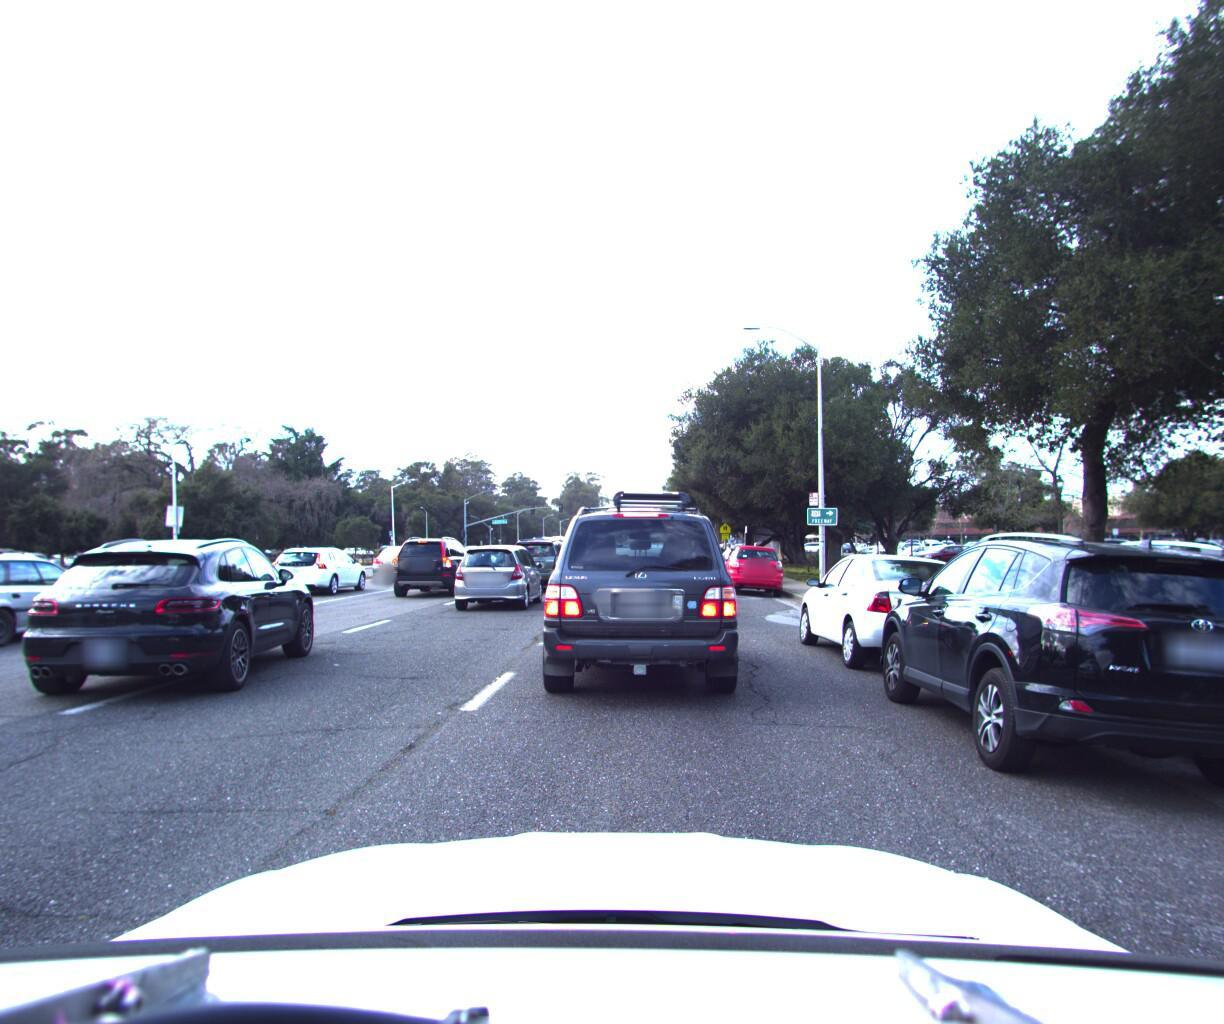car: (857, 519, 1224, 831), (20, 534, 329, 712), (526, 477, 745, 715), (787, 544, 1019, 681), (0, 544, 140, 667), (451, 541, 549, 609), (389, 530, 481, 596), (267, 542, 378, 596), (70, 543, 177, 595), (502, 533, 573, 591), (715, 537, 788, 592), (0, 549, 62, 611), (370, 540, 443, 579)
